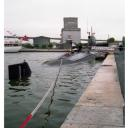submarine: (10, 53, 107, 83)
